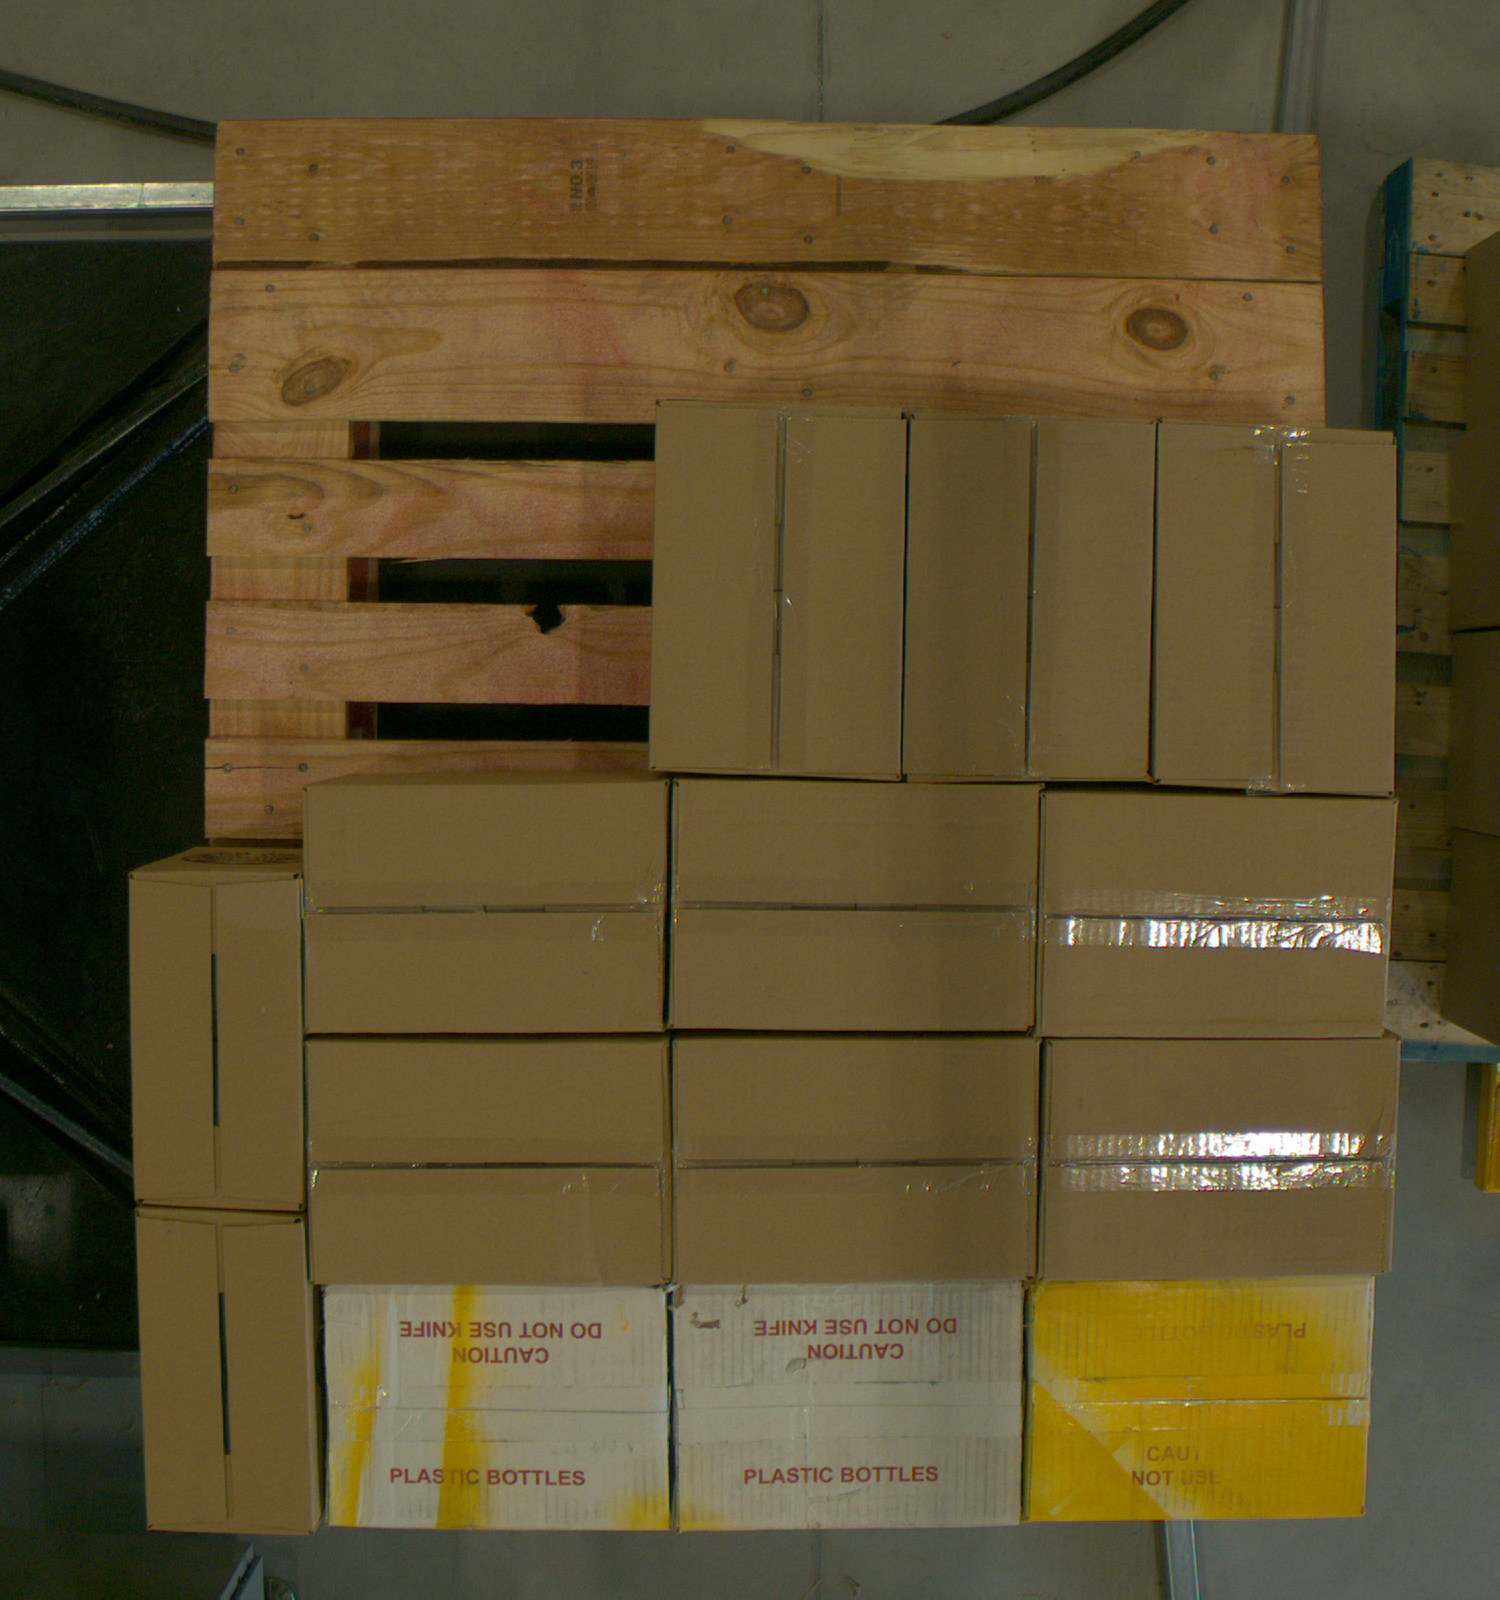box top: (654, 405, 904, 775), (671, 782, 1038, 1029), (906, 416, 1152, 784), (362, 727, 608, 1091), (1036, 794, 1398, 1038), (1157, 424, 1397, 791), (674, 1040, 1038, 1281), (307, 1043, 672, 1283), (725, 1229, 971, 1583), (1040, 1040, 1400, 1280), (1028, 1279, 1375, 1522), (376, 1236, 617, 1577), (130, 873, 305, 1212), (137, 1210, 313, 1535)
